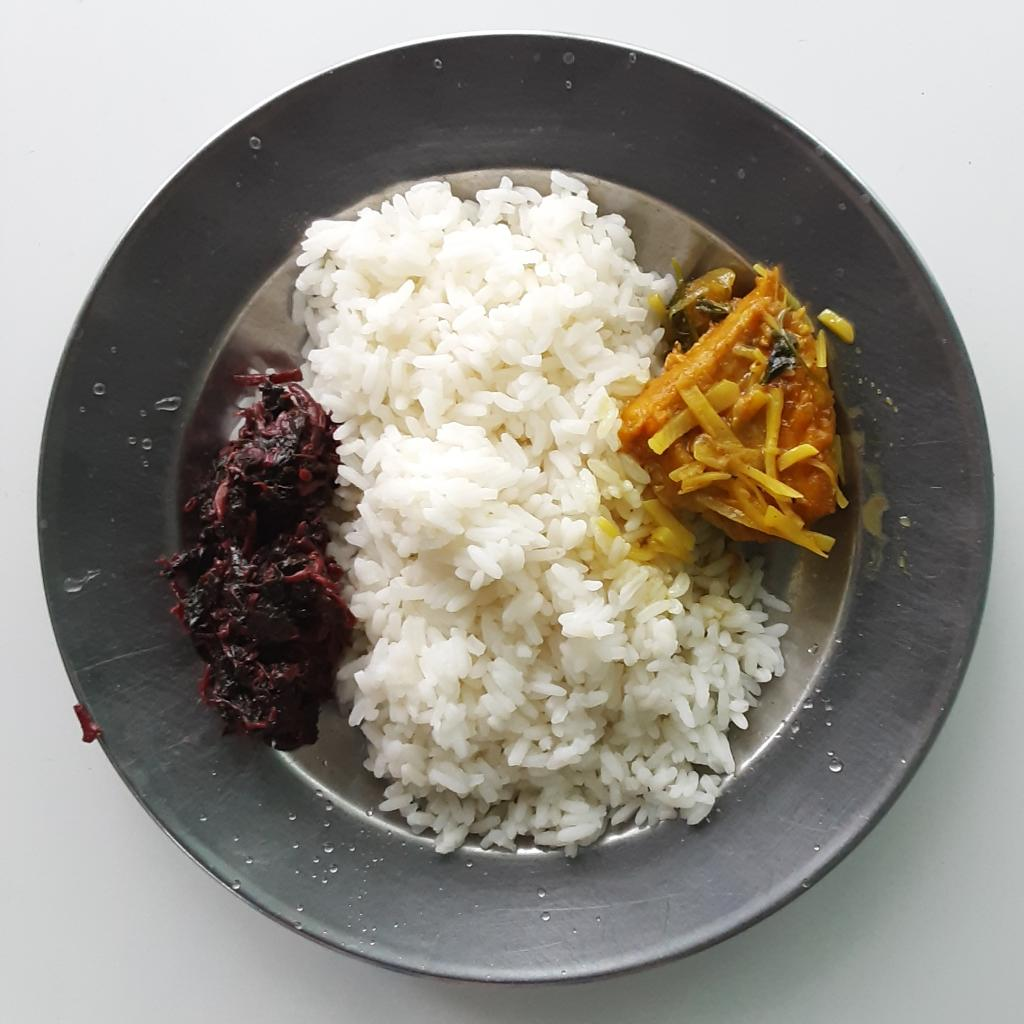fish: (617, 268, 855, 510)
lal-shak: (158, 367, 361, 750)
potato: (643, 331, 837, 568)
rice: (293, 174, 788, 864)
